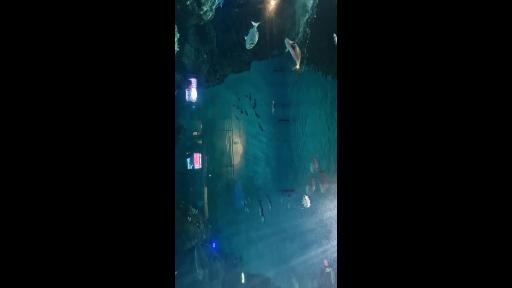Fish: (285, 39, 301, 73), (195, 245, 208, 279), (245, 22, 260, 49), (320, 171, 327, 193), (307, 175, 315, 194), (310, 155, 318, 173), (241, 198, 249, 213), (259, 200, 264, 223), (302, 196, 310, 208), (291, 278, 299, 288), (267, 195, 271, 210), (258, 123, 263, 131), (272, 101, 275, 114), (331, 270, 334, 283), (254, 111, 259, 118), (334, 34, 337, 44), (254, 99, 256, 110), (279, 120, 290, 122), (237, 94, 240, 101), (324, 259, 327, 266), (245, 110, 248, 116), (247, 196, 250, 202), (288, 193, 291, 199), (235, 116, 239, 120), (288, 201, 290, 209), (282, 190, 295, 191), (175, 271, 178, 275), (236, 106, 240, 109), (241, 108, 243, 113), (281, 197, 283, 202), (246, 94, 248, 98), (250, 94, 251, 101), (232, 105, 235, 107)
